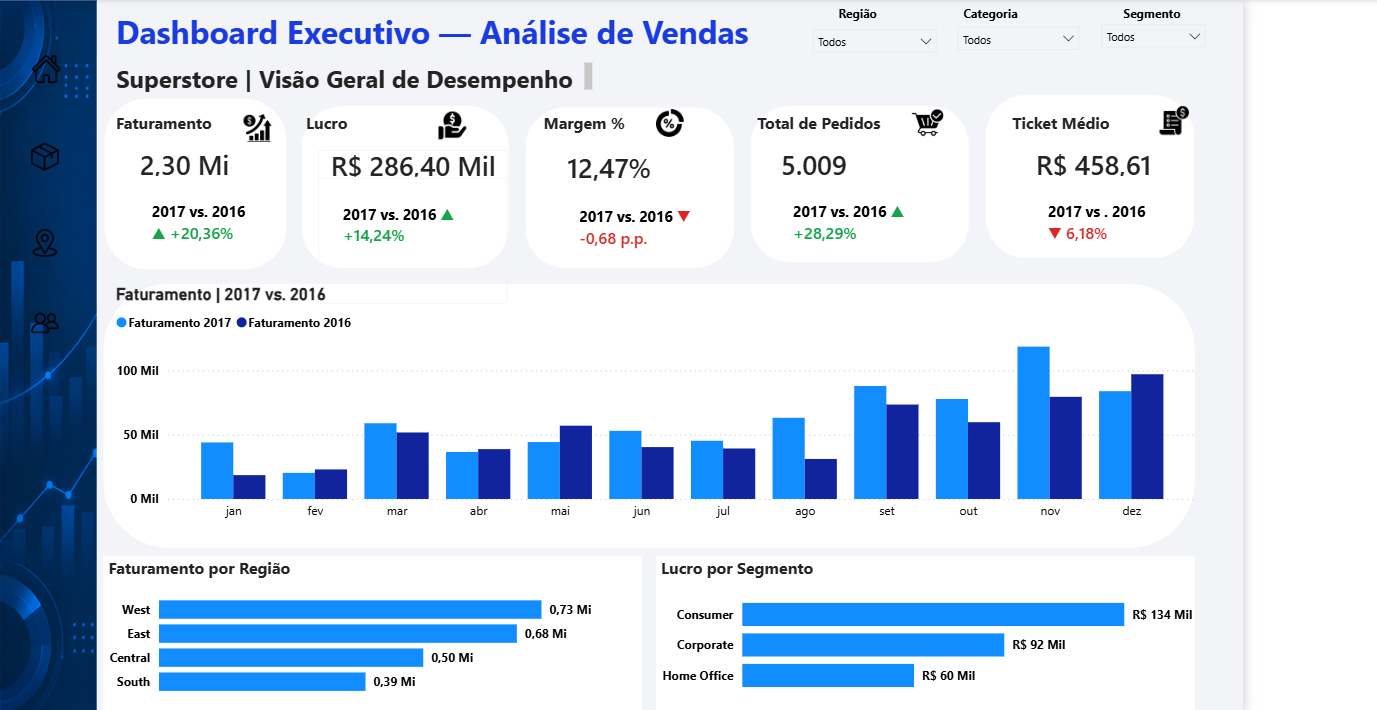

The dashboard page shown, as its layout file describes it:
{"tool":"powerbi","page":{"name":"Visão Executiva","canvas":[1280,720],"ordinal":0},"visuals":[{"type":"image","box":[0,1.4,152.4,715.7],"z":0},{"type":"shape","box":[688.8,560.6,541.8,160.9],"z":1000},{"type":"shape","box":[133.2,560.6,541.8,157.1],"z":2000},{"type":"shape","box":[133.2,286.6,1097.4,265.2],"z":3000},{"type":"shape","box":[1019.4,95.5,211.2,165.9],"z":4000},{"type":"shape","box":[783.1,106.8,221.2,158.4],"z":5000},{"type":"shape","box":[556.8,108.1,211.2,163.4],"z":6000},{"type":"shape","box":[331.8,106.8,209.9,164.7],"z":7000},{"type":"shape","box":[133.2,99.3,184.8,173.5],"z":8000},{"type":"cardVisual","title":"Faturamento","fields":{"Data":["Superstore.FaturamentoBI"]},"box":[140.8,113.1,191.1,211.2],"z":11000},{"type":"cardVisual","title":"Ticket Médio","fields":{"Data":["Superstore.Ticket Medio"]},"box":[1042,113.1,195.8,211.3],"z":12000},{"type":"cardVisual","title":"Total de Pedidos","fields":{"Data":["Superstore.Total Pedidos Exibição"]},"box":[785.6,113.1,197.2,211.3],"z":13000},{"type":"slicer","fields":{"Values":["Superstore.Region"]},"box":[835.9,20.1,145.3,51],"z":14000},{"type":"slicer","fields":{"Values":["Superstore.Category"]},"box":[981.7,17.6,142.8,51],"z":15000},{"type":"slicer","fields":{"Values":["Superstore.Segment"]},"box":[1126.3,15.1,125.4,50.7],"z":16000},{"type":"textbox","box":[867.3,0,126.1,29.4],"z":17000},{"type":"textbox","box":[993,0,105.6,31],"z":18000},{"type":"textbox","box":[1153.9,0,98,39],"z":19000},{"type":"textbox","box":[141.4,6.8,657.7,63.4],"z":20000},{"type":"textbox","box":[141.4,58.5,488.7,39.4],"z":21000},{"type":"cardVisual","title":"Lucro","fields":{"Data":["Superstore.Lucro"]},"box":[331.8,113.1,225,211.2],"z":22000},{"type":"cardVisual","title":"Margem %","fields":{"Data":["Superstore.Margem %"]},"box":[570.7,113.1,197.3,236.3],"z":23000},{"type":"clusteredColumnChart","title":"Faturamento | 2017 vs. 2016","fields":{"Category":["Calendario.Mês"],"Y":["Calendario.Faturamento 2017","Calendario.Faturamento 2016"]},"box":[140.8,286.6,1097.4,246.4],"z":24000},{"type":"clusteredBarChart","title":"Faturamento por Região","fields":{"Category":["Superstore.Region"],"Y":["Superstore.Faturamento"]},"box":[133.2,560.6,496.5,150.8],"z":25000},{"type":"clusteredBarChart","title":"Lucro por Segmento","fields":{"Category":["Superstore.Segment"],"Y":["Superstore.Lucro"]},"box":[688.8,560.6,545,150],"z":26000},{"type":"image","box":[274.6,115.5,28,28],"z":27000},{"type":"image","box":[470.1,113.1,28,28],"z":28000},{"type":"image","box":[688.8,110.6,28,28],"z":29000},{"type":"image","box":[1181.3,107.4,57.1,30],"z":30000},{"type":"image","box":[62.1,56.5,28,28],"z":31000},{"type":"image","box":[60.7,144,28,28],"z":32000},{"type":"image","box":[60.7,231.5,28,28],"z":33000},{"type":"image","box":[60.7,312,28,28],"z":34000},{"type":"actionButton","box":[27.2,138.7,100,40],"z":35000},{"type":"image","box":[925.7,104.7,74.2,40],"z":36000},{"type":"actionButton","box":[49.4,304.9,56,43],"z":37000}]}

Visuals, with their boxes on the page's 1280x720 design canvas (x1, y1, x2, y2). These are canvas units, not pixel positions in the 1377x710 screenshot, which may show the page scaled, cropped or inside an application window:
image: <bbox>0, 1, 152, 717</bbox>
shape: <bbox>689, 561, 1231, 722</bbox>
shape: <bbox>133, 561, 675, 718</bbox>
shape: <bbox>133, 287, 1231, 552</bbox>
shape: <bbox>1019, 96, 1231, 261</bbox>
shape: <bbox>783, 107, 1004, 265</bbox>
shape: <bbox>557, 108, 768, 272</bbox>
shape: <bbox>332, 107, 542, 272</bbox>
shape: <bbox>133, 99, 318, 273</bbox>
"Faturamento" cardVisual: <bbox>141, 113, 332, 324</bbox>
"Ticket Médio" cardVisual: <bbox>1042, 113, 1238, 324</bbox>
"Total de Pedidos" cardVisual: <bbox>786, 113, 983, 324</bbox>
slicer - Superstore.Region: <bbox>836, 20, 981, 71</bbox>
slicer - Superstore.Category: <bbox>982, 18, 1124, 69</bbox>
slicer - Superstore.Segment: <bbox>1126, 15, 1252, 66</bbox>
textbox: <bbox>867, 0, 993, 29</bbox>
textbox: <bbox>993, 0, 1099, 31</bbox>
textbox: <bbox>1154, 0, 1252, 39</bbox>
textbox: <bbox>141, 7, 799, 70</bbox>
textbox: <bbox>141, 58, 630, 98</bbox>
"Lucro" cardVisual: <bbox>332, 113, 557, 324</bbox>
"Margem %" cardVisual: <bbox>571, 113, 768, 349</bbox>
"Faturamento | 2017 vs. 2016" clusteredColumnChart: <bbox>141, 287, 1238, 533</bbox>
"Faturamento por Região" clusteredBarChart: <bbox>133, 561, 630, 711</bbox>
"Lucro por Segmento" clusteredBarChart: <bbox>689, 561, 1234, 711</bbox>
image: <bbox>275, 116, 303, 144</bbox>
image: <bbox>470, 113, 498, 141</bbox>
image: <bbox>689, 111, 717, 139</bbox>
image: <bbox>1181, 107, 1238, 137</bbox>
image: <bbox>62, 56, 90, 84</bbox>
image: <bbox>61, 144, 89, 172</bbox>
image: <bbox>61, 232, 89, 260</bbox>
image: <bbox>61, 312, 89, 340</bbox>
actionButton: <bbox>27, 139, 127, 179</bbox>
image: <bbox>926, 105, 1000, 145</bbox>
actionButton: <bbox>49, 305, 105, 348</bbox>
